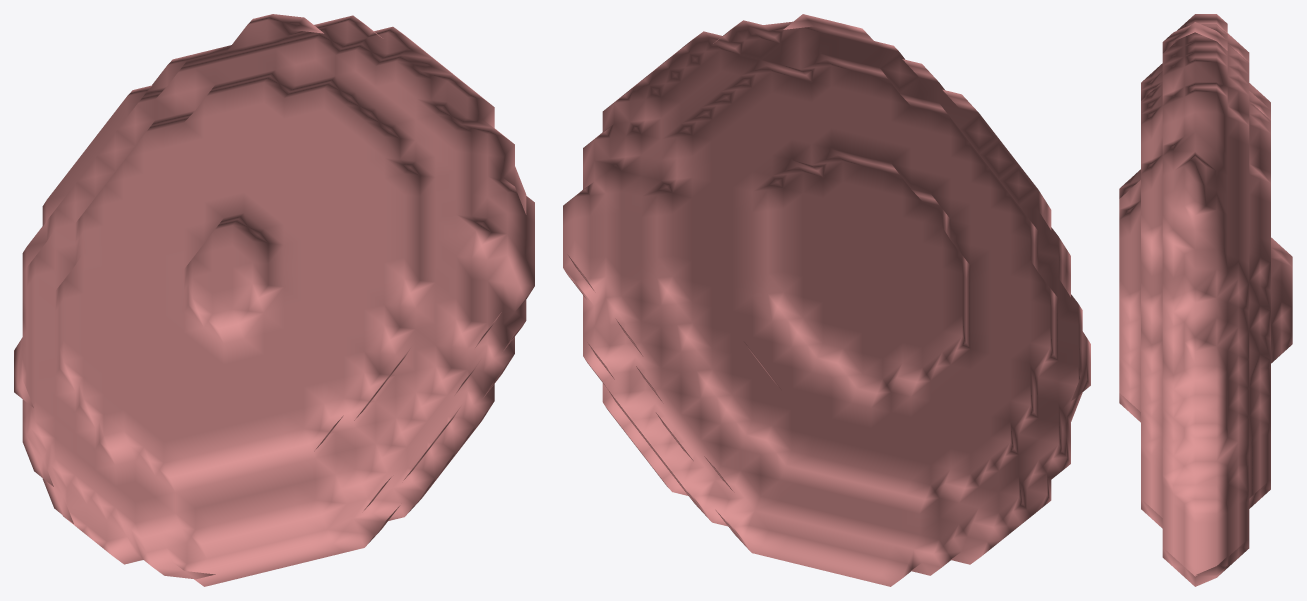
Rendered from 199507_occ.glb.
The picture shows the model from 3 angles, left to right: view 1: azimuth 30°, elevation 25°; view 2: azimuth 150°, elevation 25°; view 3: azimuth 270°, elevation 25°; orthographic projection. The views are drawn at different scales.
Parts seen in each view (by area): view 1: world; view 2: world; view 3: world.
Boxes of the visible parts, box(x1,y1,x2,y2) form: world: box(14, 14, 534, 586); world: box(563, 14, 1090, 586); world: box(1119, 14, 1292, 586).
Size of the model in its own units: 2.6 by 2.6 by 0.8.
